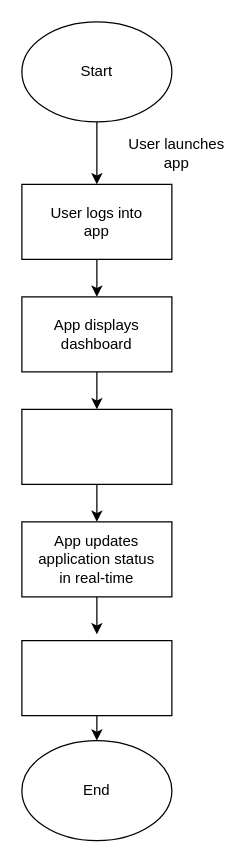
Some shapes in this 251 by 863 pixel diagram are drawn without their labels. The shapes that lost their labels are listed below. From the top down, each one's box as (x1, y1, x2, y2) in pixels, then its label:
(21, 408, 172, 484): App shows application status
(21, 639, 172, 716): App sends alerts/notifications
